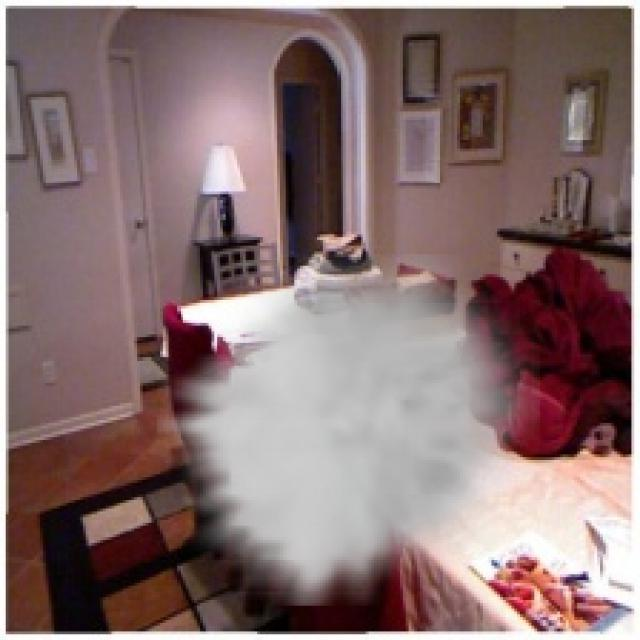Smoke: (157, 254, 540, 606)
